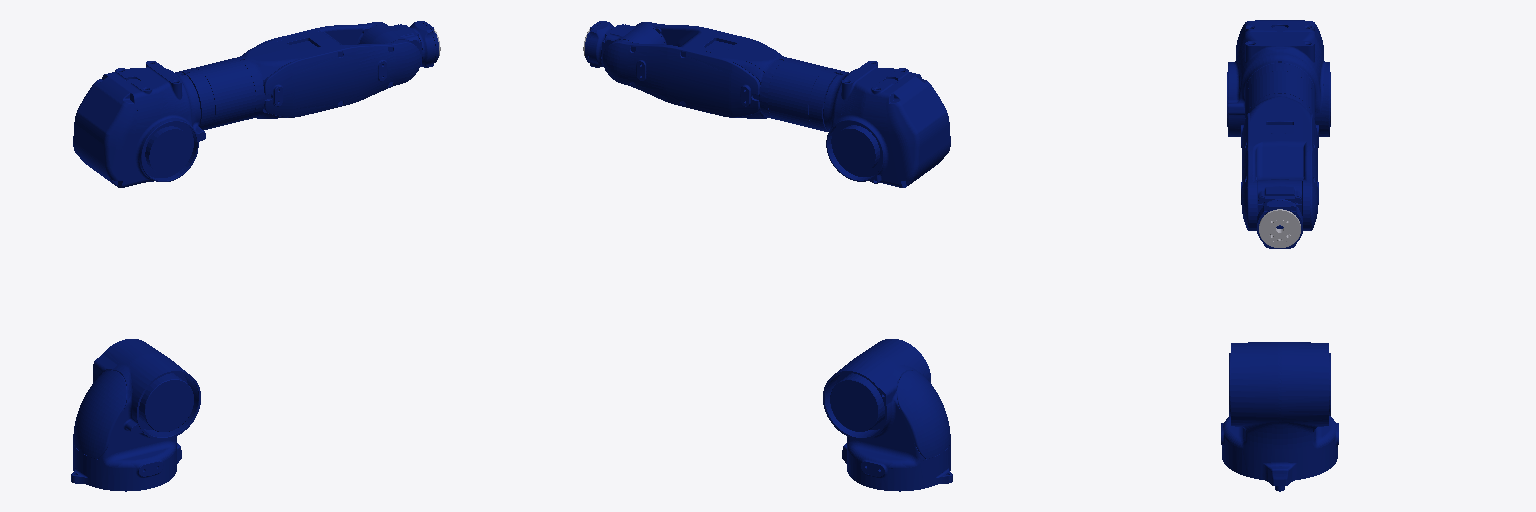
robot.urdf — gp7:
<?xml version='1.0' encoding='utf-8'?>
<robot name="gp7">
  <!--Provisional physics: source CAD density is approximately 1 g/cm^3 for every link. See reference/mass_properties_input.json and checks/inertia_conversion.json. Mesh alignment remains estimated.-->
  <material name="yaskawa_blue">
    <color rgba="0.08 0.16 0.48 1" />
  </material>
  <material name="flange_metal">
    <color rgba="0.7 0.7 0.74 1" />
  </material>
  <link name="base_link">
    <inertial>
      <origin xyz="-0.00557 0 0.09476" rpy="0 0 0" />
      <mass value="5.21529" />
      <inertia ixx="0.02614509855" ixy="-2.172917e-05" ixz="-0.00026745526" iyy="0.02899989809" iyz="-4.678524e-05" izz="0.02531692025" />
    </inertial>
    <visual>
      <origin xyz="0 0 0" rpy="1.57079632679 0 3.14159265359" />
      <geometry>
        <mesh filename="package://gp7_stl_description/meshes/base_link.stl" scale="0.001 0.001 0.001" />
      </geometry>
      <material name="yaskawa_blue" />
    </visual>
    <collision>
      <origin xyz="0 0 0" rpy="1.57079632679 0 3.14159265359" />
      <geometry>
        <mesh filename="package://gp7_stl_description/meshes/base_link.stl" scale="0.001 0.001 0.001" />
      </geometry>
    </collision>
  </link>
  <link name="link_1">
    <inertial>
      <origin xyz="0.01567 -0.00013 -0.04005" rpy="0 0 0" />
      <mass value="2.94467" />
      <inertia ixx="0.01124125615" ixy="2.94465e-06" ixz="-0.00199671457" iyy="0.01265254324" iyz="9.0708e-07" izz="0.00951432683" />
    </inertial>
    <visual>
      <origin xyz="0.04 0 0" rpy="1.57079632679 0 -1.57079632679" />
      <geometry>
        <mesh filename="package://gp7_stl_description/meshes/link_1.stl" scale="0.001 0.001 0.001" />
      </geometry>
      <material name="yaskawa_blue" />
    </visual>
    <collision>
      <origin xyz="0.04 0 0" rpy="1.57079632679 0 -1.57079632679" />
      <geometry>
        <mesh filename="package://gp7_stl_description/meshes/link_1.stl" scale="0.001 0.001 0.001" />
      </geometry>
    </collision>
  </link>
  <link name="link_2">
    <inertial>
      <origin xyz="-0.02763 0.0002 0.19499" rpy="0 0 0" />
      <mass value="6.24044" />
      <inertia ixx="0.14266654804" ixy="-3.226244e-05" ixz="-0.00030565577" iyy="0.11099308771" iyz="-0.00045912012" izz="0.04379863482" />
    </inertial>
    <visual>
      <origin xyz="0 0 0" rpy="3.14159265359 0 3.14159265359" />
      <geometry>
        <mesh filename="package://gp7_stl_description/meshes/link_2.stl" scale="0.001 0.001 0.001" />
      </geometry>
      <material name="yaskawa_blue" />
    </visual>
    <collision>
      <origin xyz="0 0 0" rpy="3.14159265359 0 3.14159265359" />
      <geometry>
        <mesh filename="package://gp7_stl_description/meshes/link_2.stl" scale="0.001 0.001 0.001" />
      </geometry>
    </collision>
  </link>
  <link name="link_3">
    <inertial>
      <origin xyz="-0.01591 -0.00085 0.02005" rpy="0 0 0" />
      <mass value="2.84915" />
      <inertia ixx="0.00824083175" ixy="6.479145e-05" ixz="-0.00075210385" iyy="0.01050128487" iyz="-4.066301e-05" izz="0.00963592903" />
    </inertial>
    <visual>
      <origin xyz="0 0 0" rpy="0 0 0" />
      <geometry>
        <mesh filename="package://gp7_stl_description/meshes/link_3.stl" scale="0.001 0.001 0.001" />
      </geometry>
      <material name="yaskawa_blue" />
    </visual>
    <collision>
      <origin xyz="0 0 0" rpy="0 0 0" />
      <geometry>
        <mesh filename="package://gp7_stl_description/meshes/link_3.stl" scale="0.001 0.001 0.001" />
      </geometry>
    </collision>
  </link>
  <link name="link_4">
    <inertial>
      <origin xyz="-0.194213333333 0.00016 -0.00015" rpy="0 0 0" />
      <mass value="2.75544" />
      <inertia ixx="0.00423340721" ixy="-0.00010929742" ixz="1.638059e-05" iyy="0.02679093091" iyz="-8.3145e-07" izz="0.02723821159" />
    </inertial>
    <visual>
      <origin xyz="-0.119333333333 0 0" rpy="1.57079632679 0 0" />
      <geometry>
        <mesh filename="package://gp7_stl_description/meshes/link_4.stl" scale="0.001 0.001 0.001" />
      </geometry>
      <material name="yaskawa_blue" />
    </visual>
    <collision>
      <origin xyz="-0.119333333333 0 0" rpy="1.57079632679 0 0" />
      <geometry>
        <mesh filename="package://gp7_stl_description/meshes/link_4.stl" scale="0.001 0.001 0.001" />
      </geometry>
    </collision>
  </link>
  <link name="link_5">
    <inertial>
      <origin xyz="0.01321 -0.00175 0.00025" rpy="0 0 0" />
      <mass value="0.24589" />
      <inertia ixx="0.000157046" ixy="-5.67958e-06" ixz="-1.48059e-06" iyy="0.00028453651" iyz="2.2615e-07" izz="0.00023865618" />
    </inertial>
    <visual>
      <origin xyz="0 0 0" rpy="-1.57079632679 -1.57079632679 0" />
      <geometry>
        <mesh filename="package://gp7_stl_description/meshes/link_5.stl" scale="0.001 0.001 0.001" />
      </geometry>
      <material name="yaskawa_blue" />
    </visual>
    <collision>
      <origin xyz="0 0 0" rpy="-1.57079632679 -1.57079632679 0" />
      <geometry>
        <mesh filename="package://gp7_stl_description/meshes/link_5.stl" scale="0.001 0.001 0.001" />
      </geometry>
    </collision>
  </link>
  <link name="link_6">
    <inertial>
      <origin xyz="0.07411 0 7e-05" rpy="0 0 0" />
      <mass value="0.02419" />
      <inertia ixx="8.98081e-06" ixy="0" ixz="-2.08e-09" iyy="4.81101e-06" iyz="0" izz="4.83537e-06" />
    </inertial>
    <visual>
      <origin xyz="0.065 0 0" rpy="3.14159265359 0 0" />
      <geometry>
        <mesh filename="package://gp7_stl_description/meshes/link_6.stl" scale="0.001 0.001 0.001" />
      </geometry>
      <material name="flange_metal" />
    </visual>
    <collision>
      <origin xyz="0.065 0 0" rpy="3.14159265359 0 0" />
      <geometry>
        <mesh filename="package://gp7_stl_description/meshes/link_6.stl" scale="0.001 0.001 0.001" />
      </geometry>
    </collision>
  </link>
  <joint name="joint_1" type="revolute">
    <parent link="base_link" />
    <child link="link_1" />
    <origin xyz="0 0 0.330" rpy="0 0 0" />
    <axis xyz="0 0 1" />
    <limit lower="-2.96705972839" upper="2.96705972839" effort="212.66" velocity="6.54498469498" />
  </joint>
  <joint name="joint_2" type="revolute">
    <parent link="link_1" />
    <child link="link_2" />
    <origin xyz="0.040 0 0" rpy="0 0 0" />
    <axis xyz="0 1 0" />
    <limit lower="-1.1344640138" upper="2.53072741539" effort="205.80" velocity="5.49778714378" />
  </joint>
  <joint name="joint_3" type="revolute">
    <parent link="link_2" />
    <child link="link_3" />
    <origin xyz="0 0 0.445" rpy="0 0 0" />
    <axis xyz="0 -1 0" />
    <limit lower="-1.2217304764" upper="3.31612557879" effort="106.82" velocity="7.15584993318" />
  </joint>
  <joint name="joint_4" type="revolute">
    <parent link="link_3" />
    <child link="link_4" />
    <origin xyz="0.440 0 0.040" rpy="0 0 0" />
    <axis xyz="-1 0 0" />
    <limit lower="-3.31612557879" upper="3.31612557879" effort="55.86" velocity="9.59931088597" />
  </joint>
  <joint name="joint_5" type="revolute">
    <parent link="link_4" />
    <child link="link_5" />
    <origin xyz="0 0 0" rpy="0 0 0" />
    <axis xyz="0 -1 0" />
    <limit lower="-2.35619449019" upper="2.35619449019" effort="32.68" velocity="9.59931088597" />
  </joint>
  <joint name="joint_6" type="revolute">
    <parent link="link_5" />
    <child link="link_6" />
    <origin xyz="0 0 0" rpy="0 0 0" />
    <axis xyz="-1 0 0" />
    <limit lower="-6.28318530718" upper="6.28318530718" effort="22.54" velocity="17.4532925199" />
  </joint>
  <link name="flange" />
  <joint name="joint_6_t-flange" type="fixed">
    <origin xyz="0.080 0 0" rpy="0 0 0" />
    <parent link="link_6" />
    <child link="flange" />
  </joint>
  <link name="tool0" />
  <joint name="flange-tool0" type="fixed">
    <origin xyz="0 0 0" rpy="3.14159265359 -1.57079632679 0" />
    <parent link="flange" />
    <child link="tool0" />
  </joint>
  <link name="base" />
  <joint name="base_link-base" type="fixed">
    <origin xyz="0 0 0.330" rpy="0 0 0" />
    <parent link="base_link" />
    <child link="base" />
  </joint>
</robot>

--- What the picture shows (computed from the rendered views, not written in the file) ---
3 views of the same robot in one strip: view 1: azimuth 30°, elevation 25°; view 2: azimuth 150°, elevation 25°; view 3: azimuth 270°, elevation 25° (orthographic).
Model gp7 with 10 links and 9 joints (6 revolute, 3 fixed), rooted at base_link, posed all joints at 0.
Visible links, largest first — view 1: link_4, link_1, link_3, link_5; view 2: link_4, link_1, link_3, link_5; view 3: link_1, link_4, link_3, link_5, link_6.
Boxes of the visible links, bbox=[...] form: link_4: bbox=[179, 22, 420, 129]; link_1: bbox=[71, 339, 200, 491]; link_3: bbox=[73, 61, 205, 187]; link_5: bbox=[359, 21, 438, 70]; link_4: bbox=[603, 22, 844, 131]; link_1: bbox=[823, 339, 952, 491]; link_3: bbox=[823, 61, 950, 187]; link_5: bbox=[585, 21, 664, 70]; link_1: bbox=[1221, 342, 1338, 491]; link_4: bbox=[1241, 63, 1318, 230]; link_3: bbox=[1227, 20, 1330, 136]; link_5: bbox=[1257, 179, 1302, 248]; link_6: bbox=[1259, 209, 1300, 247].
Size in the robot's own frame: 0.657 by 0.166 by 0.6869 metres.
Meshes: 7 distinct files referenced, 5 mesh visuals loaded (5 binary STL); not drawn: 2 (reference not matched to a file when rendering).
